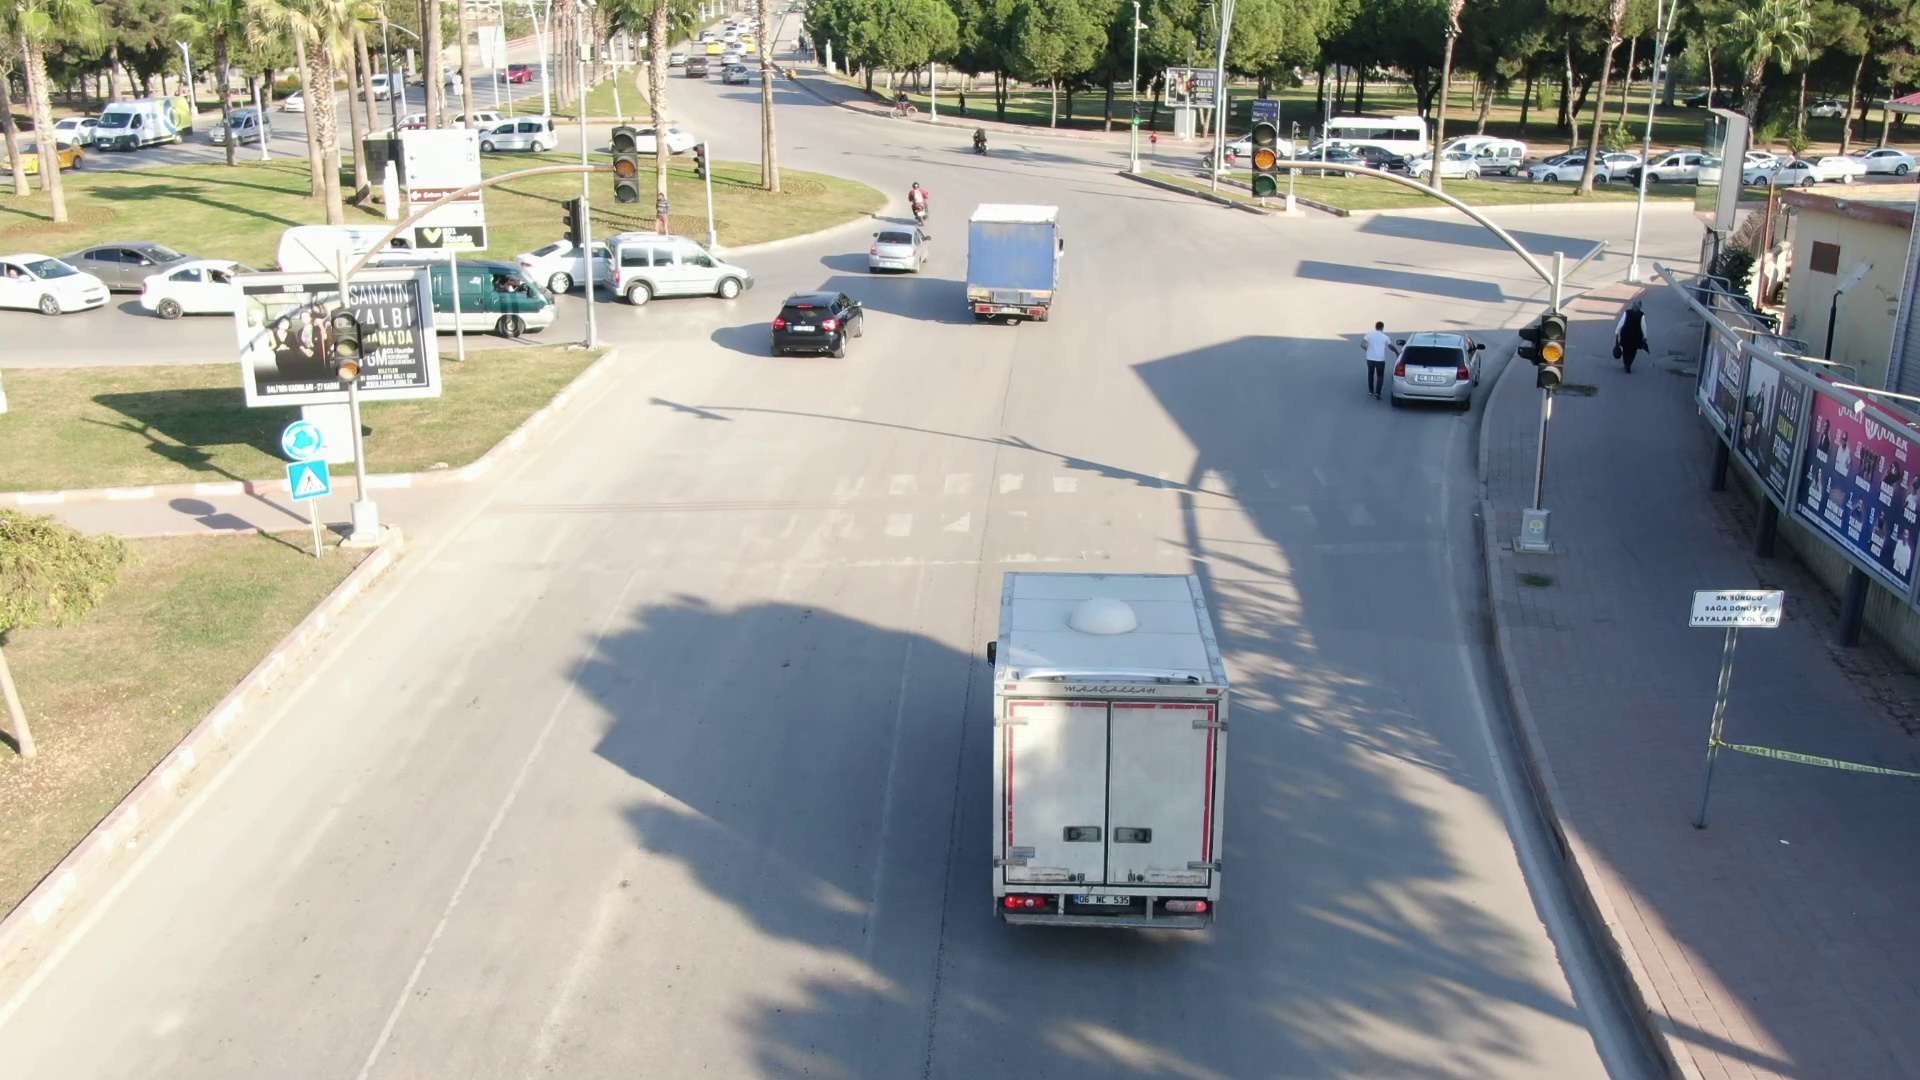car: (912, 534, 1262, 948), (948, 191, 1082, 337), (604, 221, 766, 309), (1390, 323, 1491, 415), (758, 282, 872, 364), (855, 214, 933, 282)
person: (1606, 291, 1657, 376), (1358, 314, 1394, 400), (651, 190, 676, 230)
